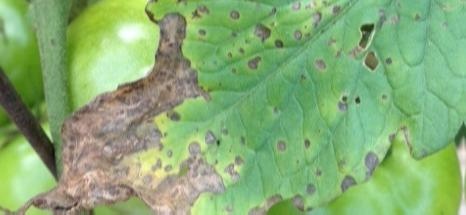Tomato Septoria leaf spot: (14, 0, 466, 215)
